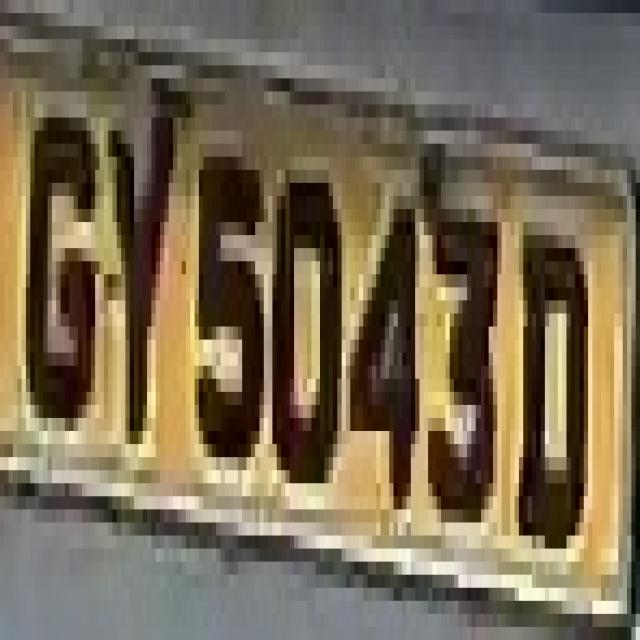0: (272, 183, 350, 496)
3: (411, 170, 510, 535)
4: (346, 104, 428, 536)
5: (190, 92, 268, 457)
D: (510, 170, 597, 574)
G: (22, 52, 104, 431)
Y: (95, 52, 177, 444)
